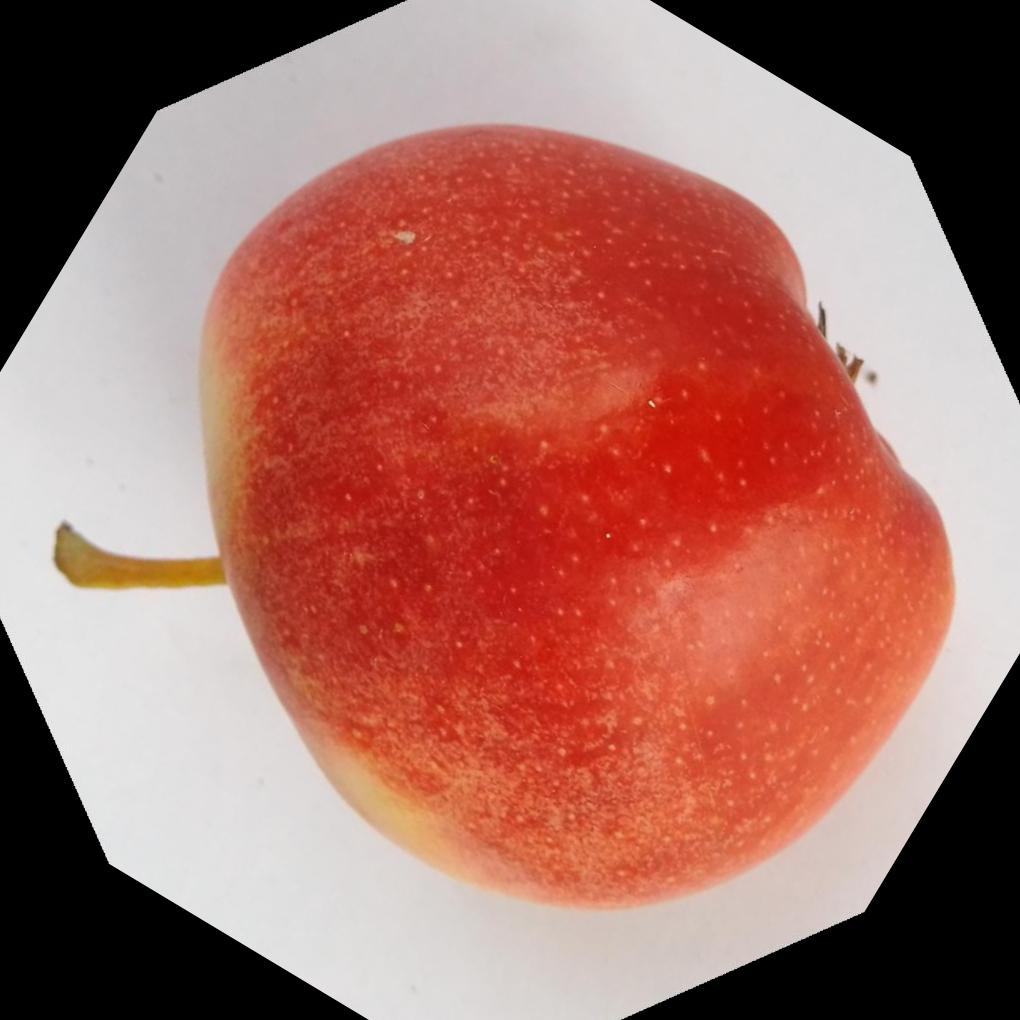FreshGuava: (197, 119, 961, 913)
